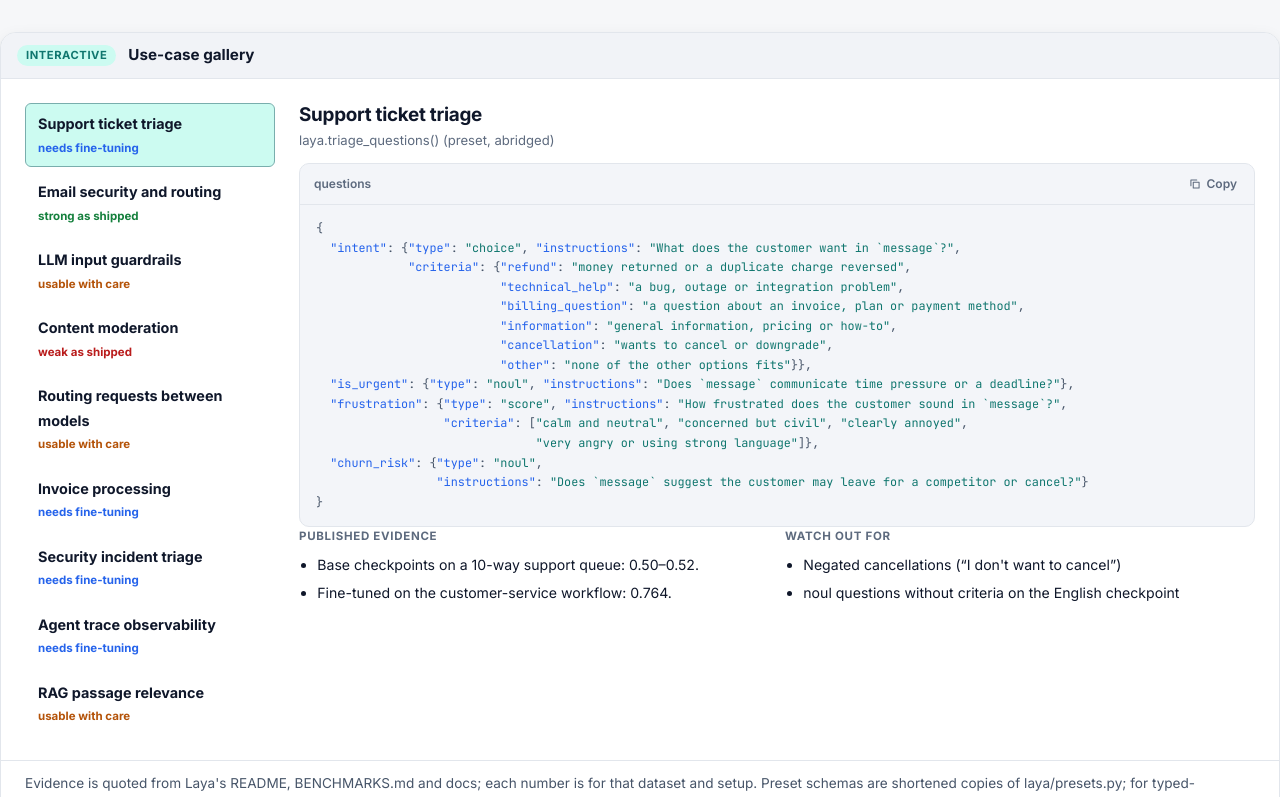
Test: UseCaseGallery › switches use cases
Click the option "Content moderation weak as shipped" at x=150, y=339, box [25, 307, 275, 371]
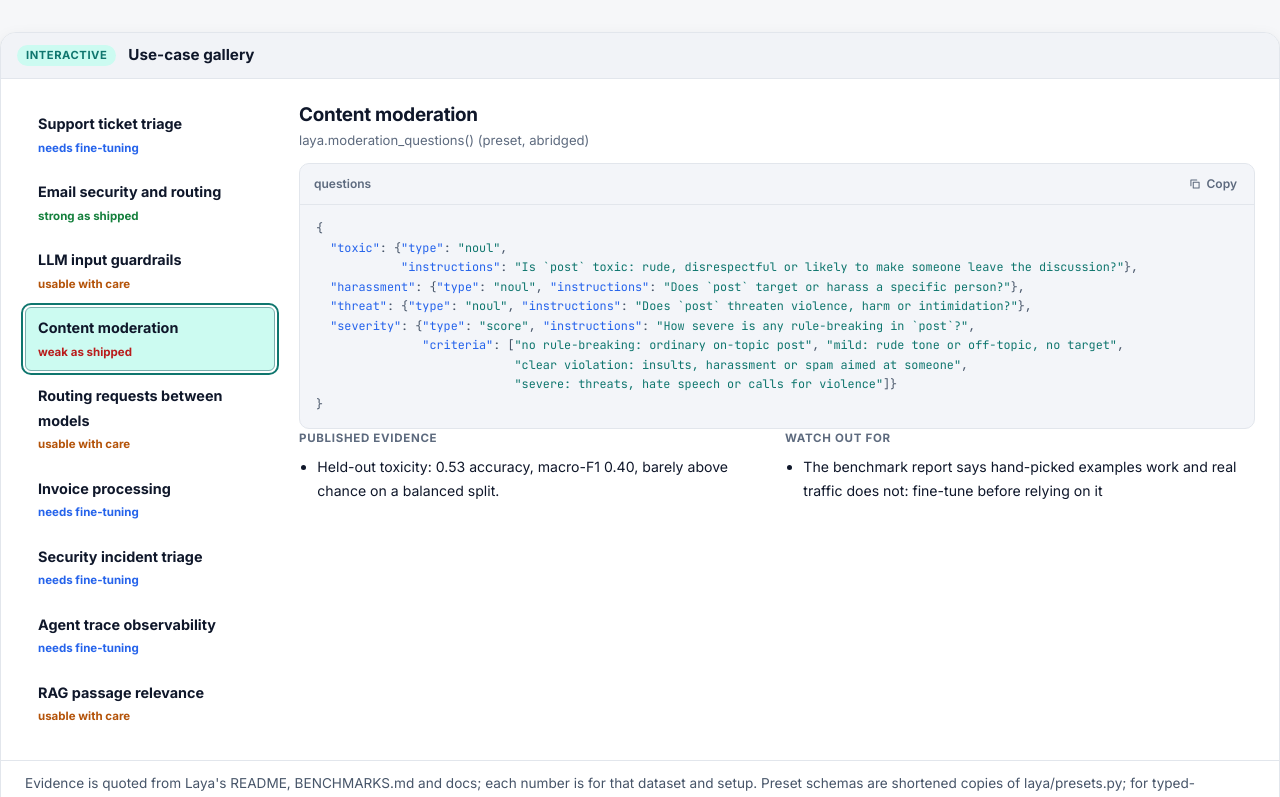
expect the list item "barely above chance" is shown: met, box [317, 458, 728, 499]
